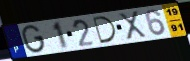1: (52, 20, 71, 51)
2: (71, 18, 96, 48)
6: (144, 9, 166, 37)
D: (91, 15, 119, 45)
G: (21, 24, 47, 54)
X: (117, 10, 149, 41)
